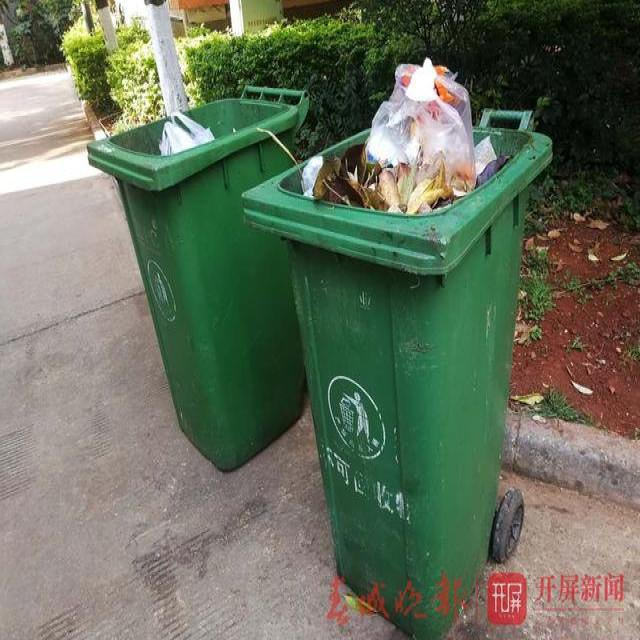garbage_bin: (86, 85, 309, 471)
overflow: (240, 56, 552, 639)
